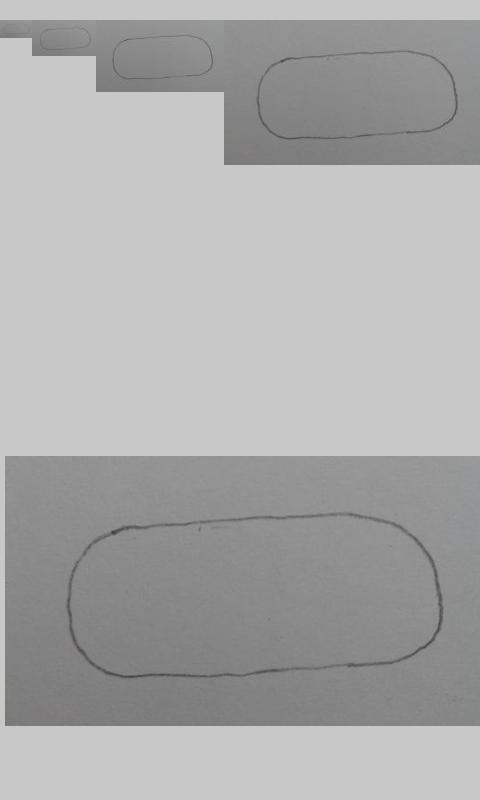chip: (67, 512, 444, 679), (257, 50, 459, 141), (112, 35, 213, 80), (39, 26, 92, 51), (2, 23, 31, 35)
